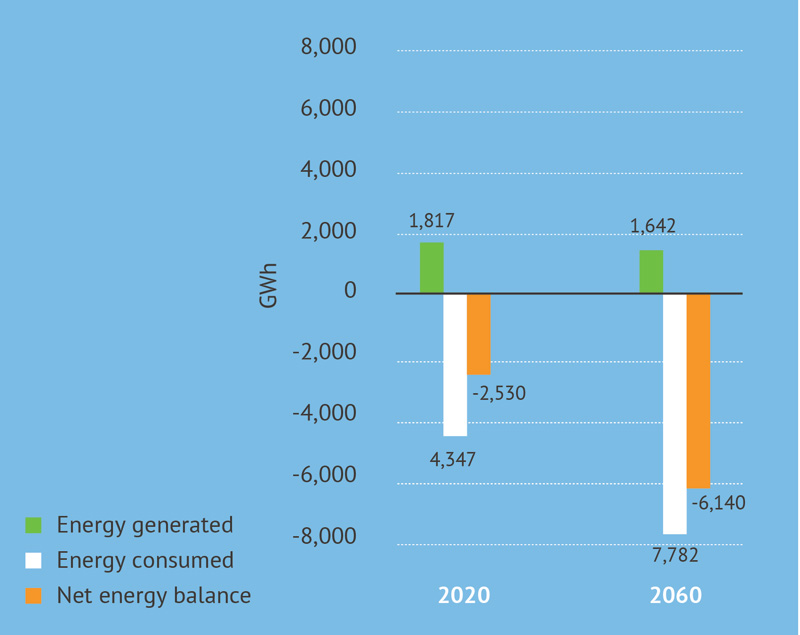OK_NoIssue: (12, 12, 768, 625)
